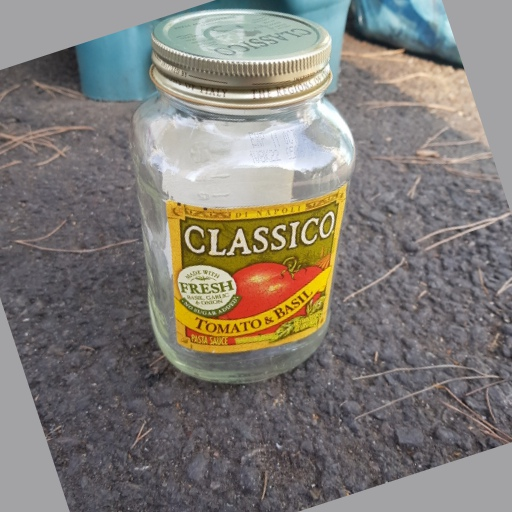Glass_5: (130, 6, 355, 383)
